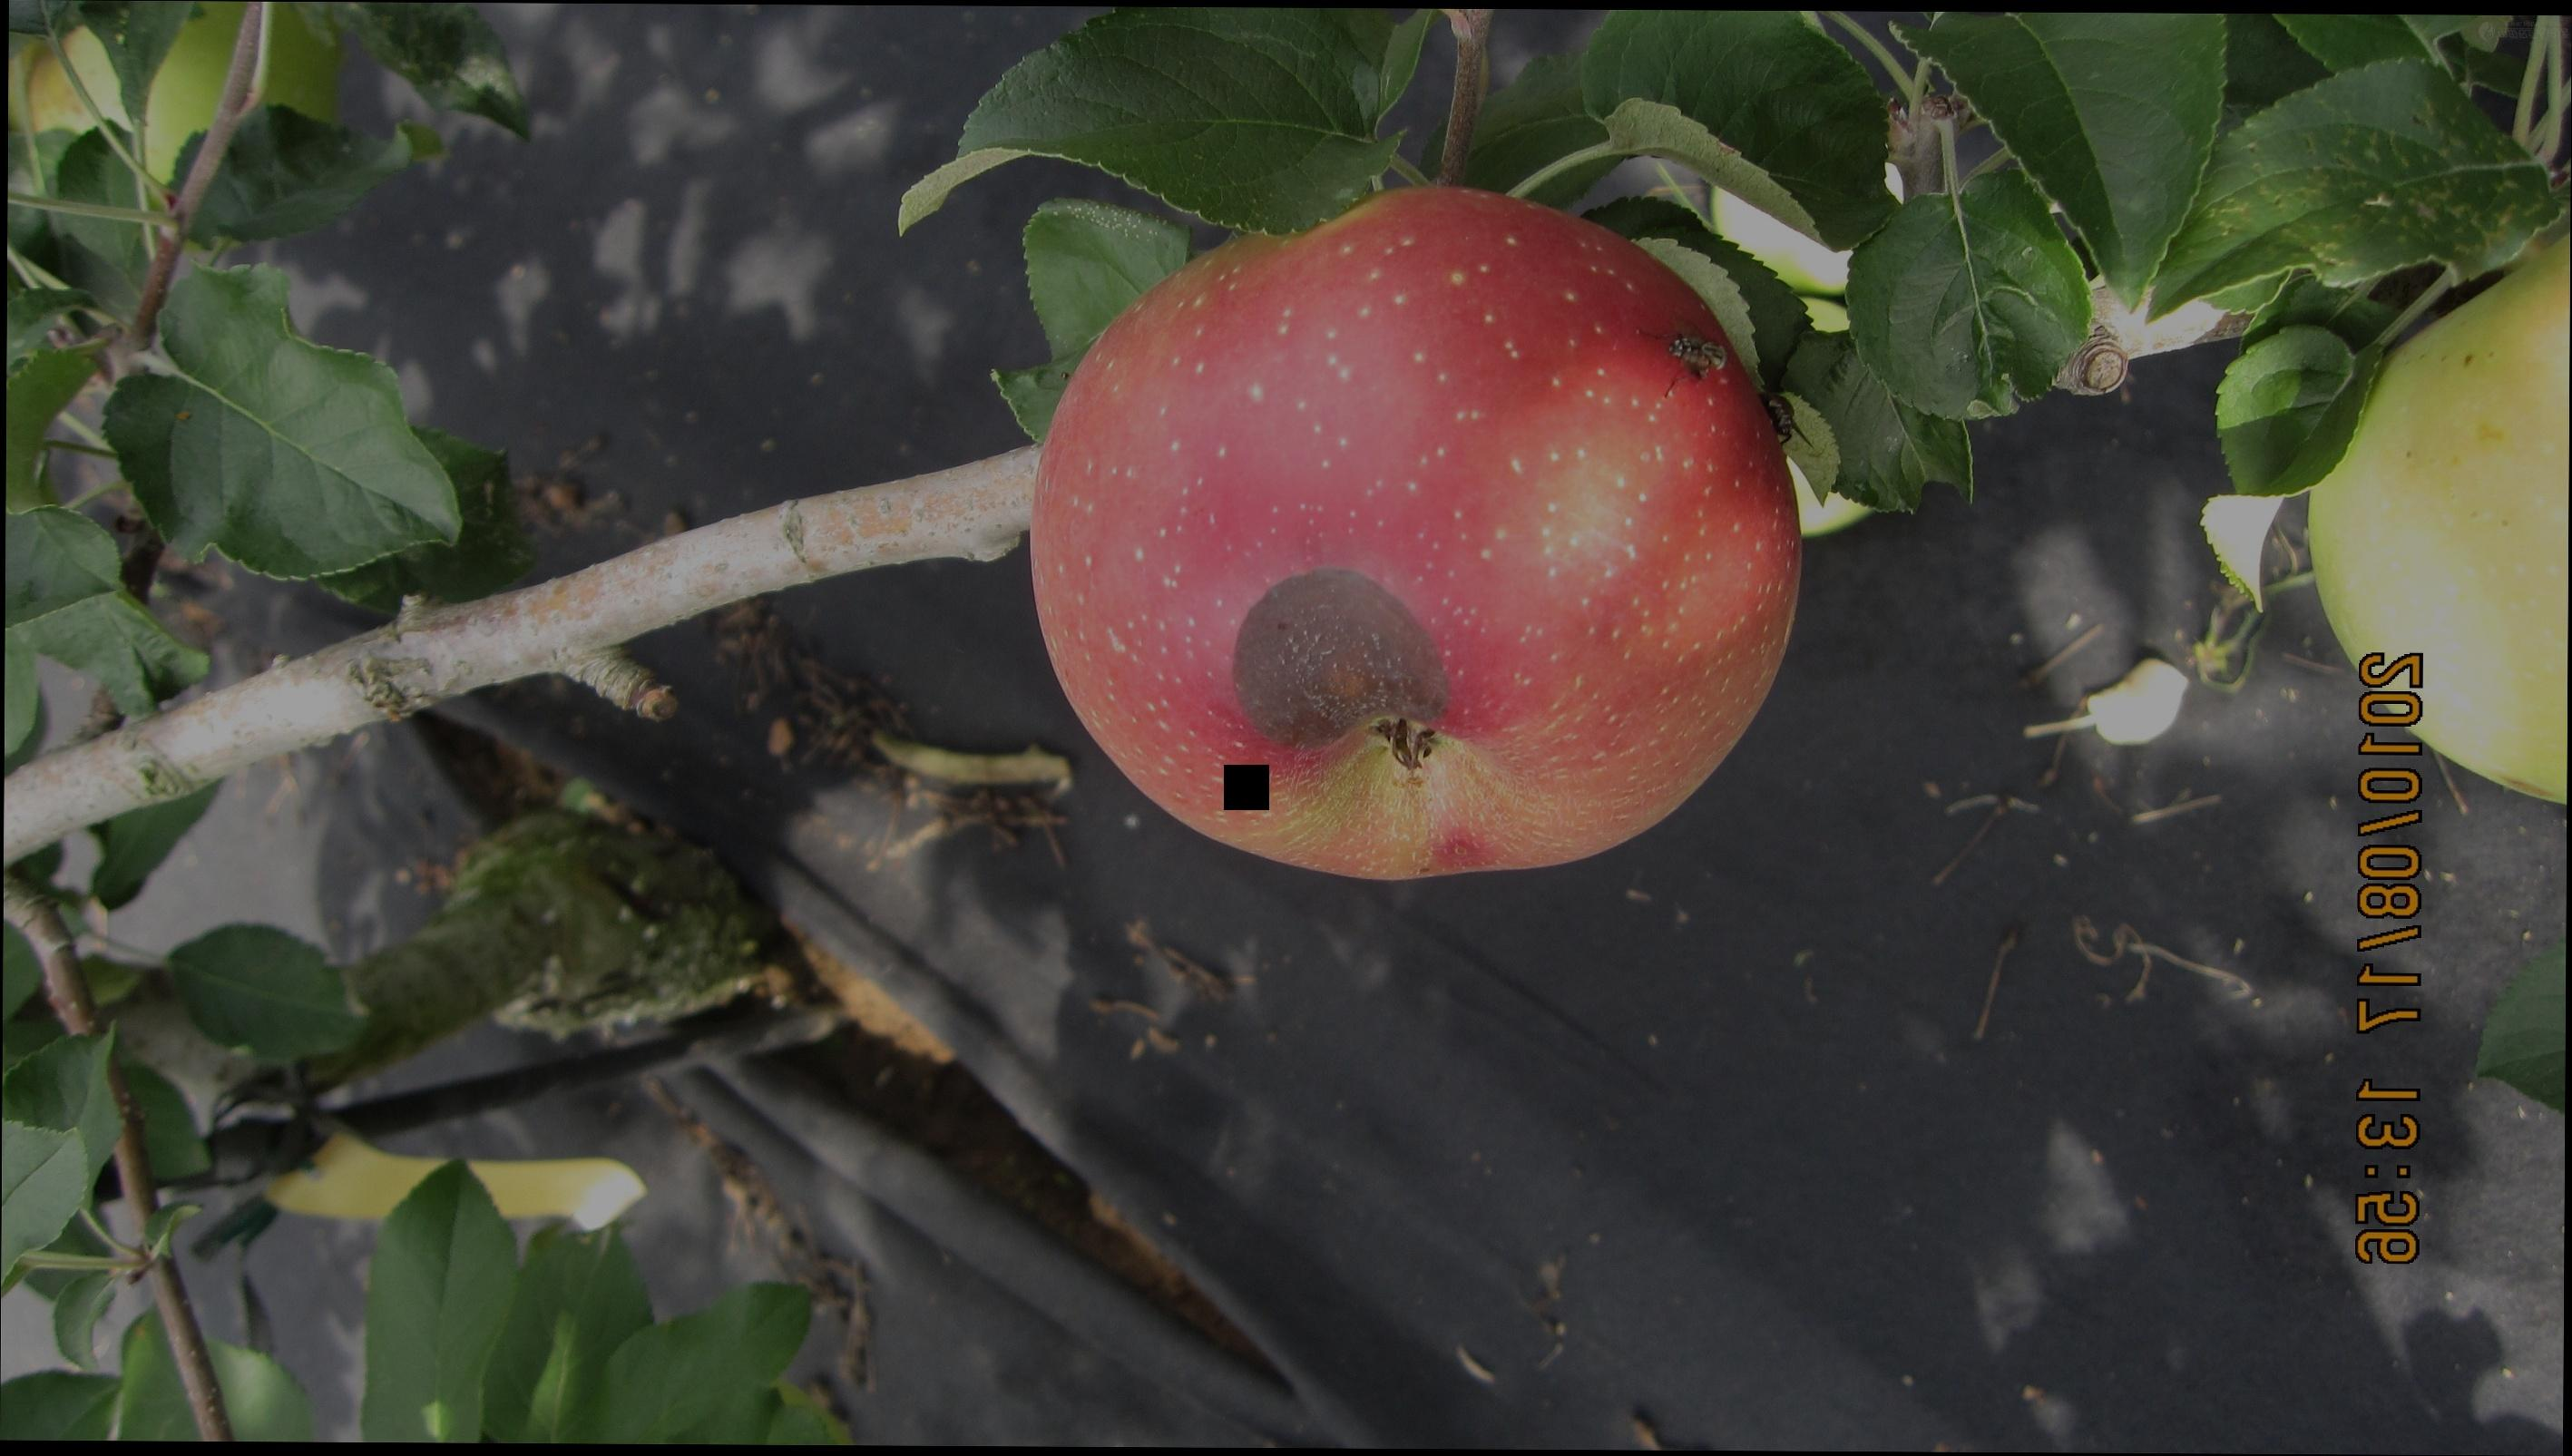rotten apple: (1017, 186, 1828, 892)
